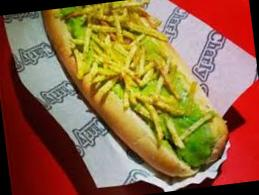Completos: (39, 0, 234, 186)
